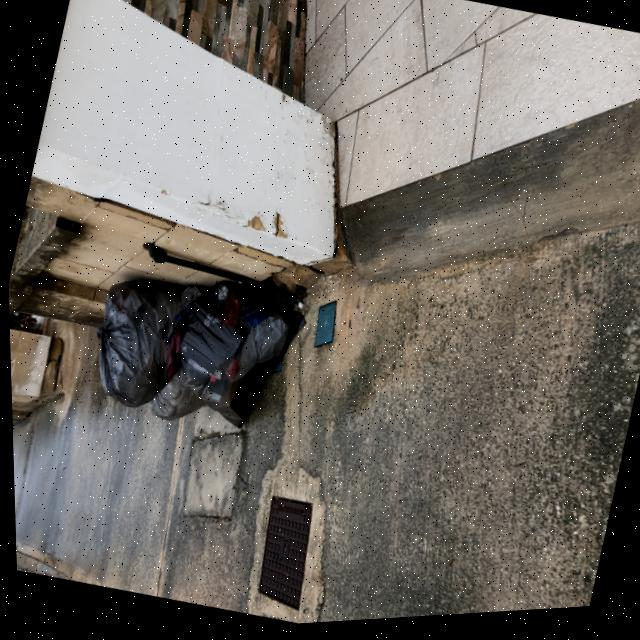Mixed Waste -Black Bag-: (160, 268, 310, 446), (82, 267, 188, 416), (145, 368, 207, 431)
